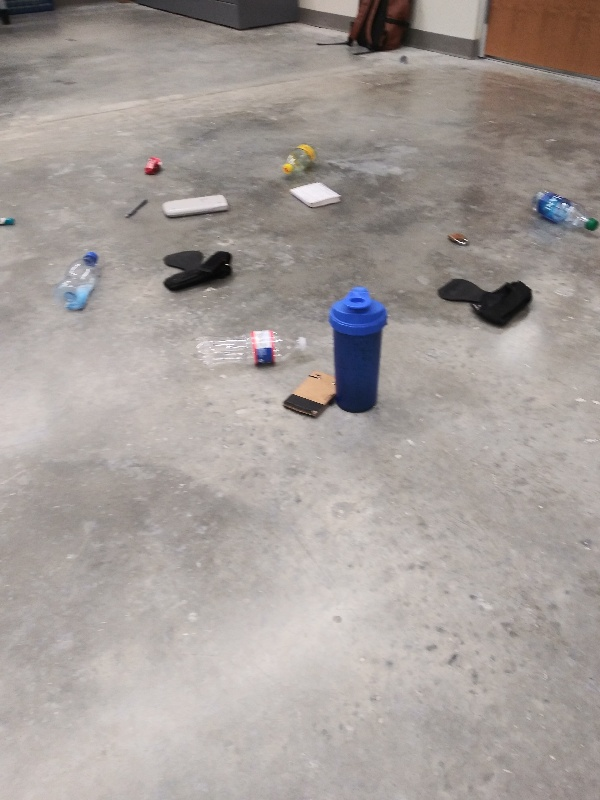bottle: (191, 327, 312, 373), (529, 184, 598, 238), (53, 247, 102, 313), (277, 136, 320, 180)
